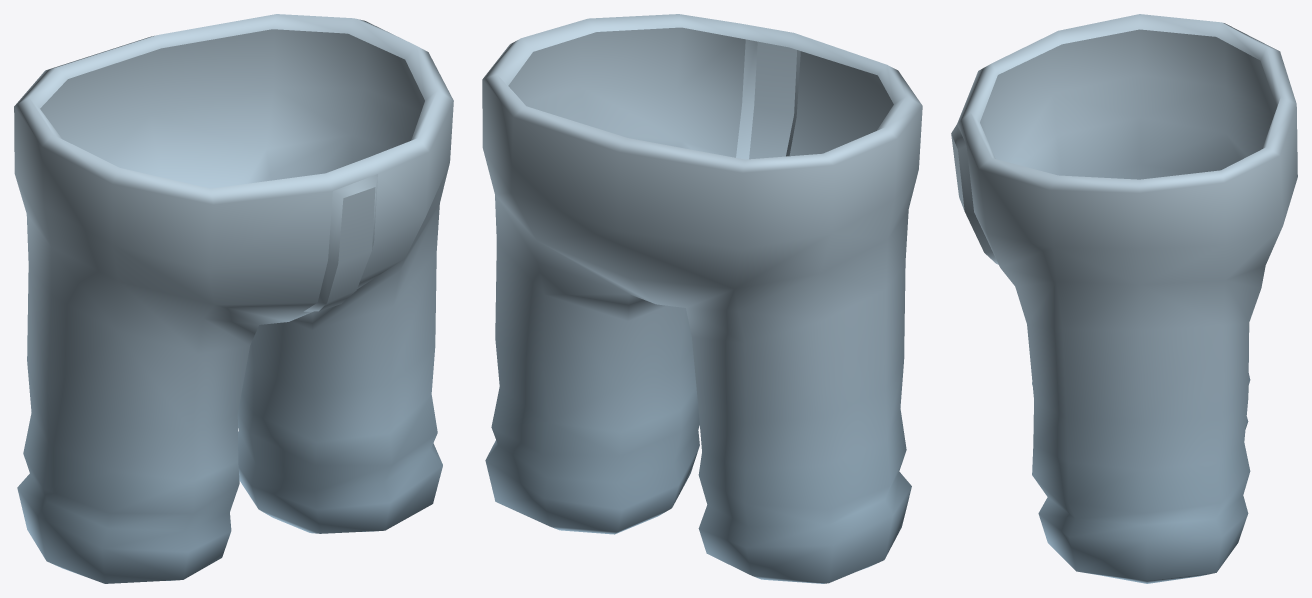
File: Bottom_30.fbx
3 renders of one model, left to right at view 1: azimuth 30°, elevation 25°; view 2: azimuth 150°, elevation 25°; view 3: azimuth 270°, elevation 25°, orthographic. The views are drawn at different scales.
Visible parts, largest first — view 1: Bottom_30; view 2: Bottom_30; view 3: Bottom_30.
Boxes of the visible parts, box(x1,y1,x2,y2) form: Bottom_30: box(14, 14, 453, 583); Bottom_30: box(482, 14, 922, 583); Bottom_30: box(951, 14, 1297, 583).
Size of the model in its own units: 38.42 by 41.84 by 31.97.
